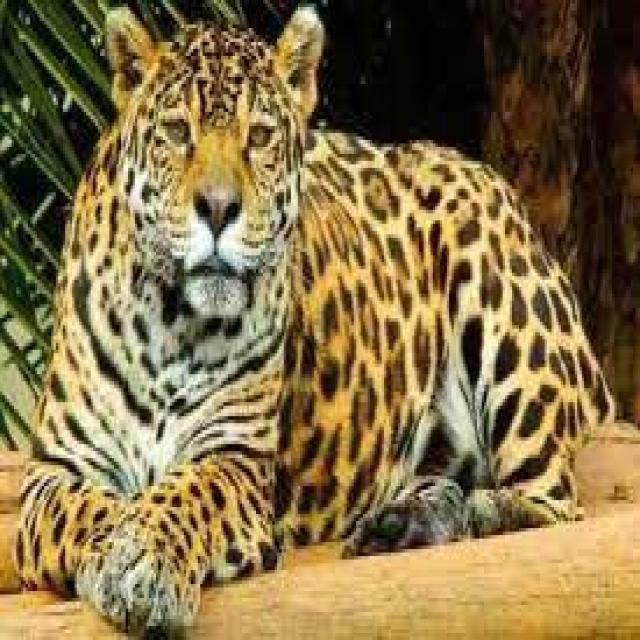Jaguar: (21, 14, 572, 567)
